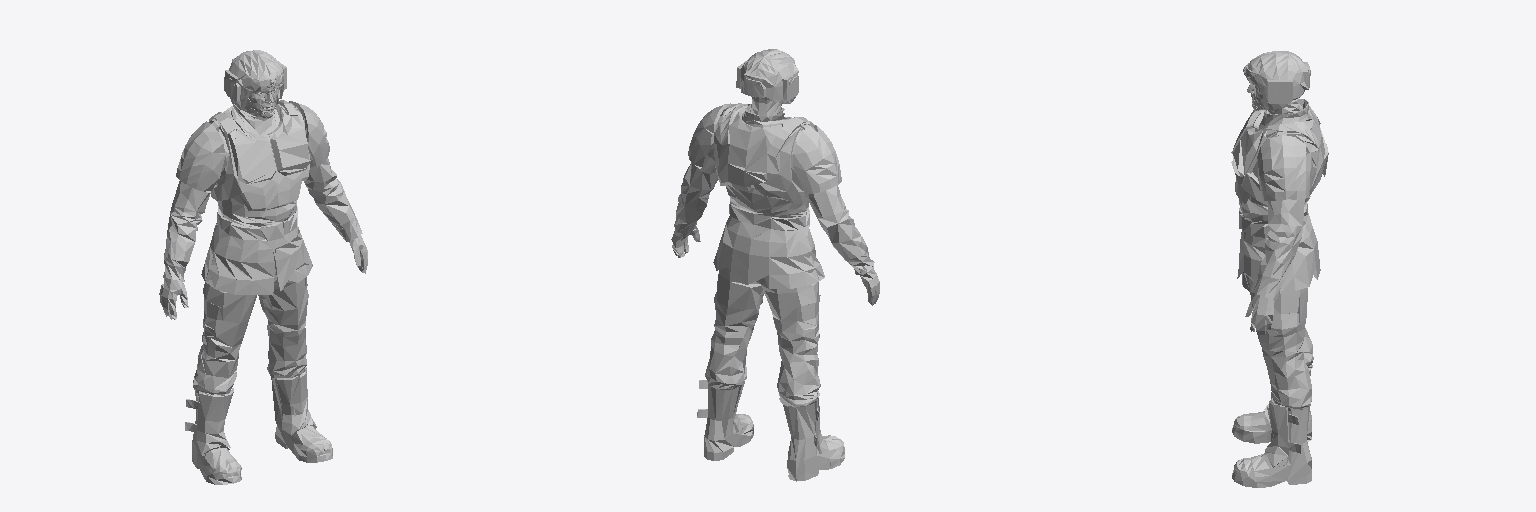
File: Cadian Guard.obj
The picture shows the model from 3 angles: view 1: azimuth 30°, elevation 25°; view 2: azimuth 150°, elevation 25°; view 3: azimuth 270°, elevation 25°; orthographic projection.
Parts seen in each view (by area): view 1: Body, Head; view 2: Body, Head; view 3: Body, Head.
Part boxes in pixels (x1,y1,x2,y2): Body: (159,100,367,484); Head: (224,50,286,118); Body: (671,103,879,481); Head: (736,49,798,115); Body: (1231,99,1328,487); Head: (1243,51,1310,114).
Size of the model in its own units: 103 by 198 by 43.06.